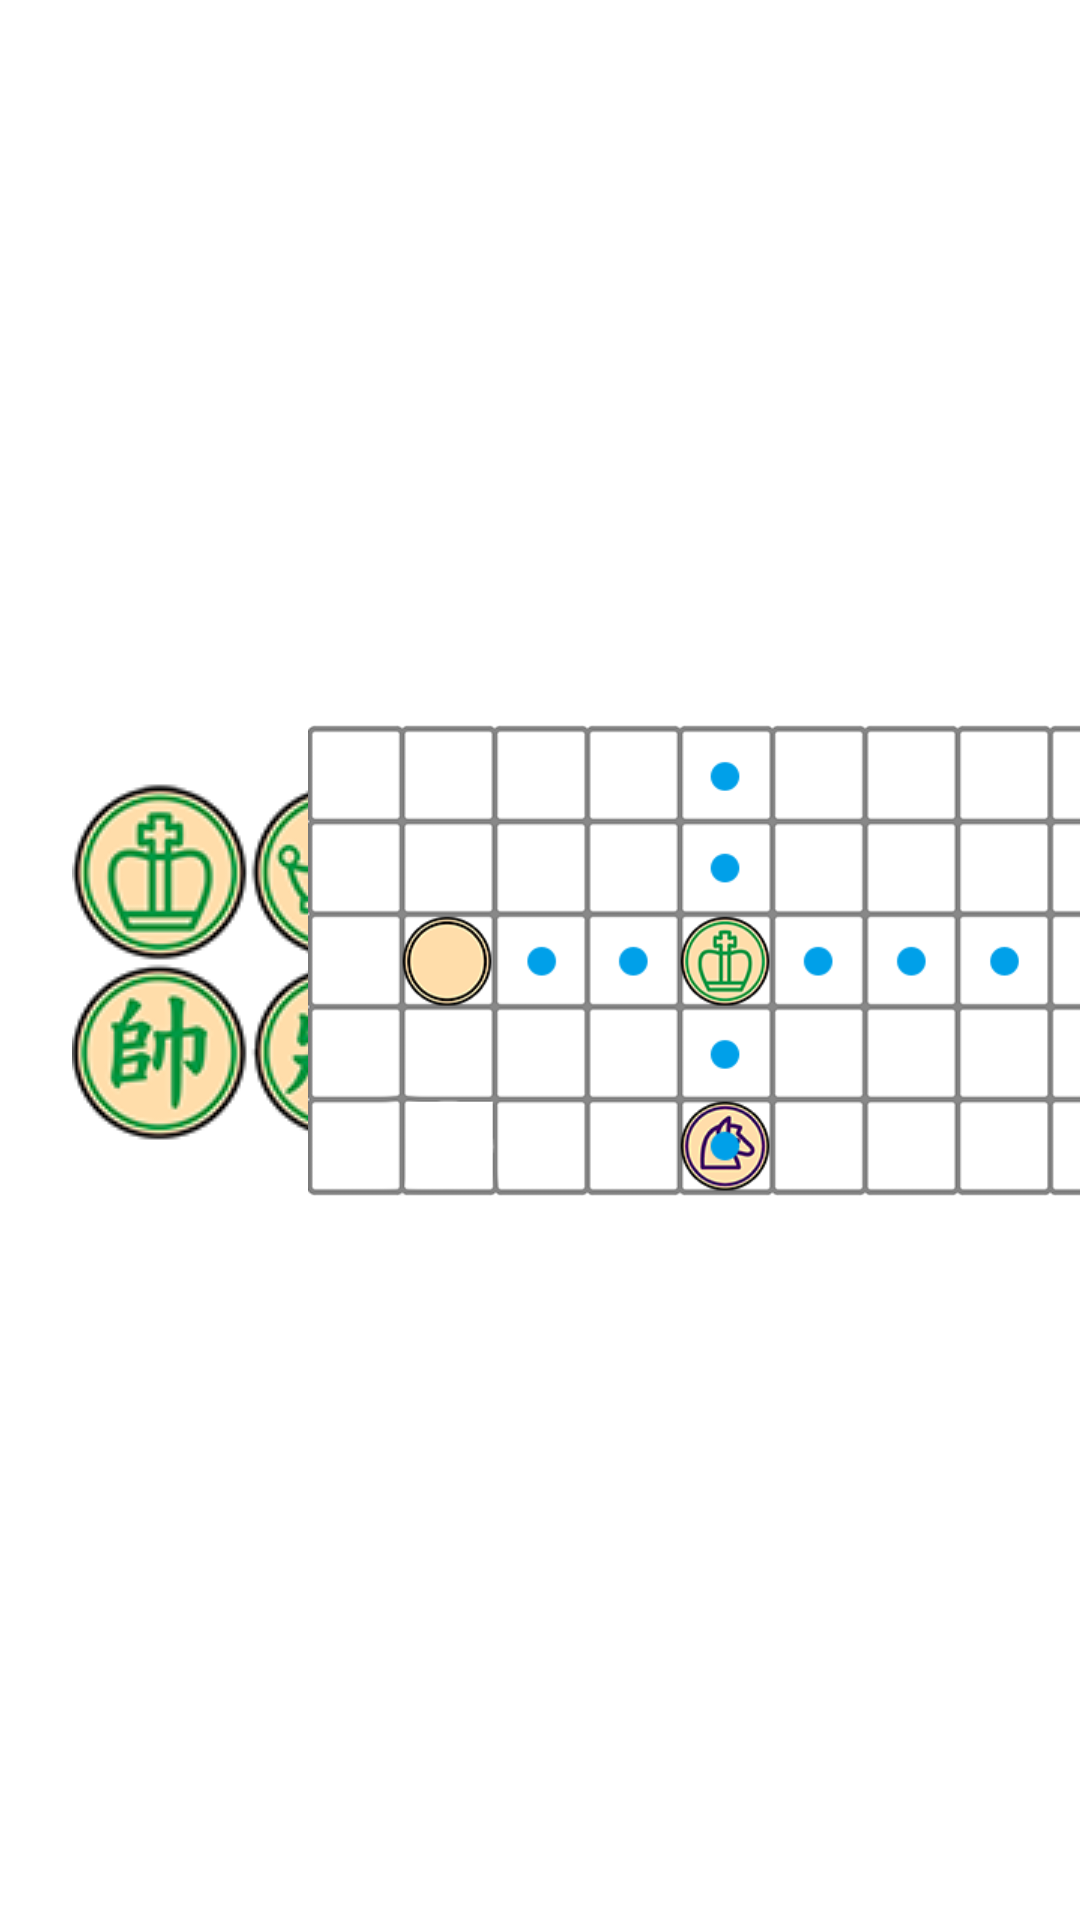

Icon click points for this 1080*1920 phone screenshot, format point (x, y):
Chess type: point (159, 962)
